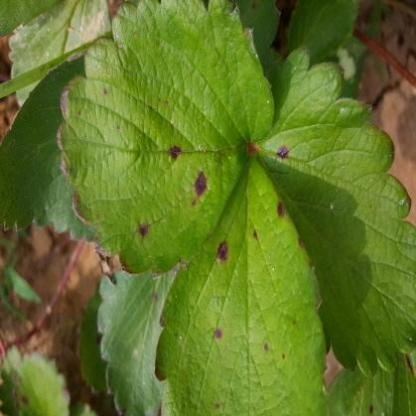Strawberry_Leaf_Spot: (55, 0, 274, 279), (251, 44, 415, 377), (154, 152, 330, 415), (94, 263, 178, 415), (328, 354, 416, 415), (0, 343, 72, 415), (76, 281, 106, 394), (234, 0, 282, 58)
